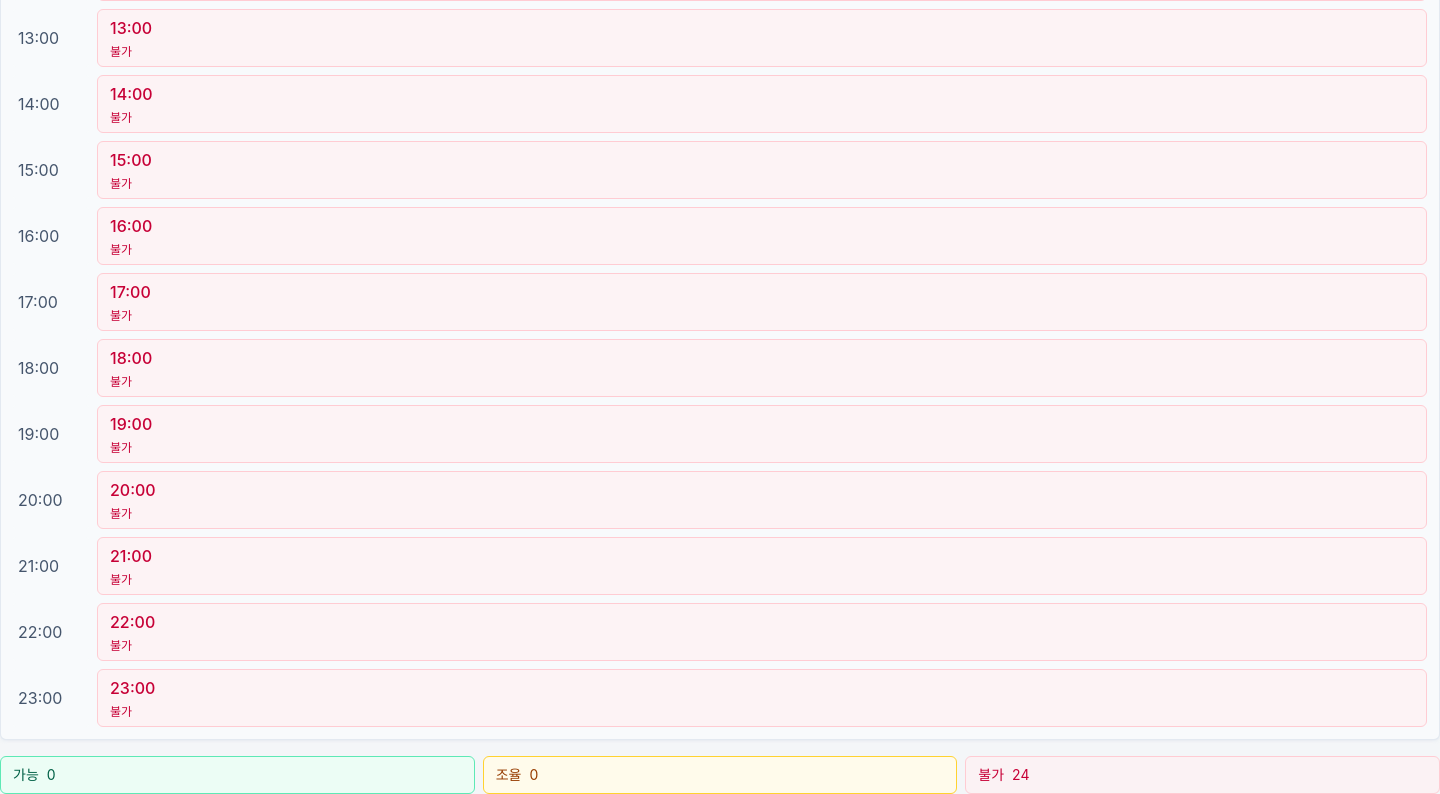
Scenario: AvailabilityGrid › paints multiple cells while dragging across the grid
The width and height of the screenshot is (1440, 794).
(page scrolled)
Press the mouse on the button with aria-label "목 20:00 불가" at x=133, y=490, box [97, 471, 1427, 529]
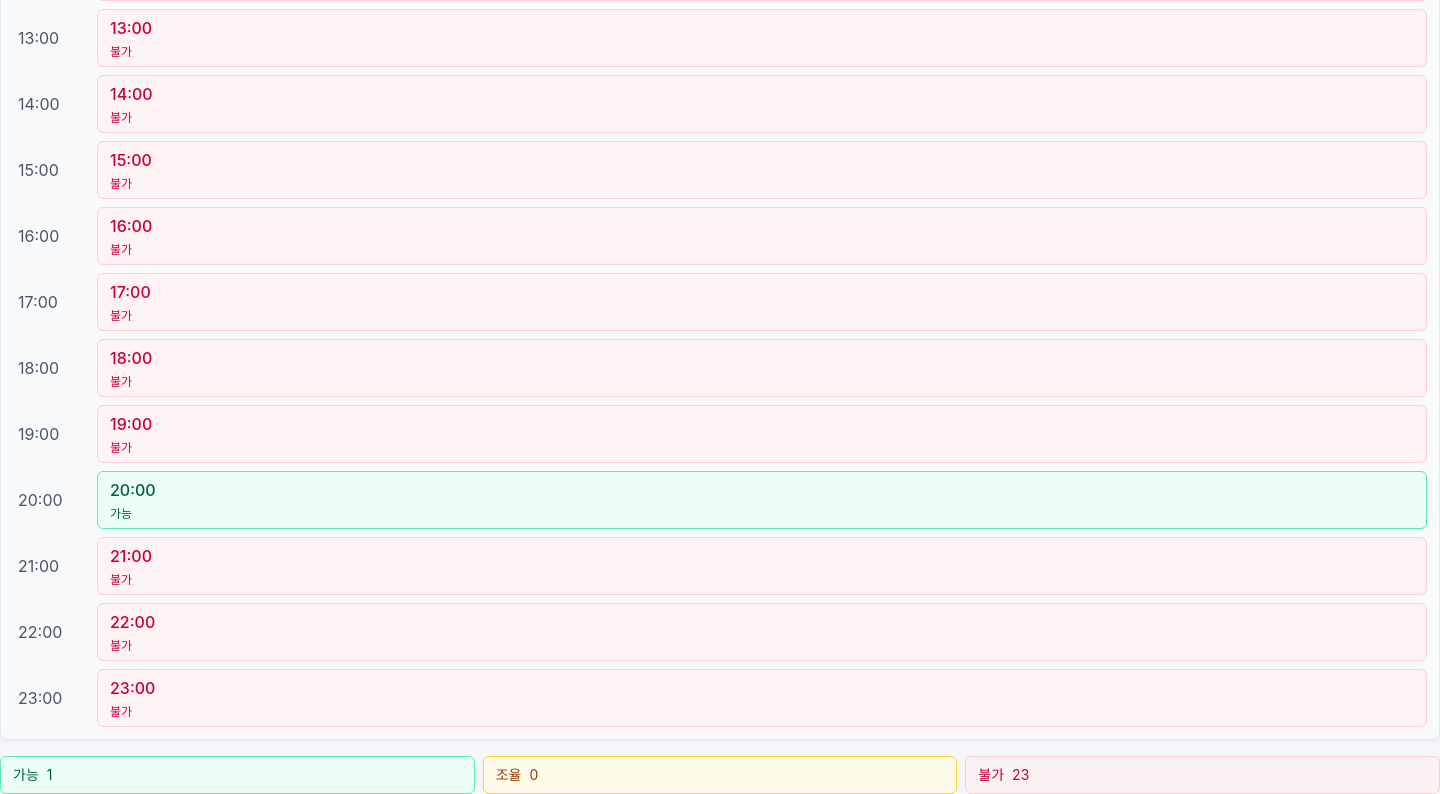
Hover over the button with aria-label "목 21:00 불가" at x=131, y=556, box [97, 537, 1427, 595]
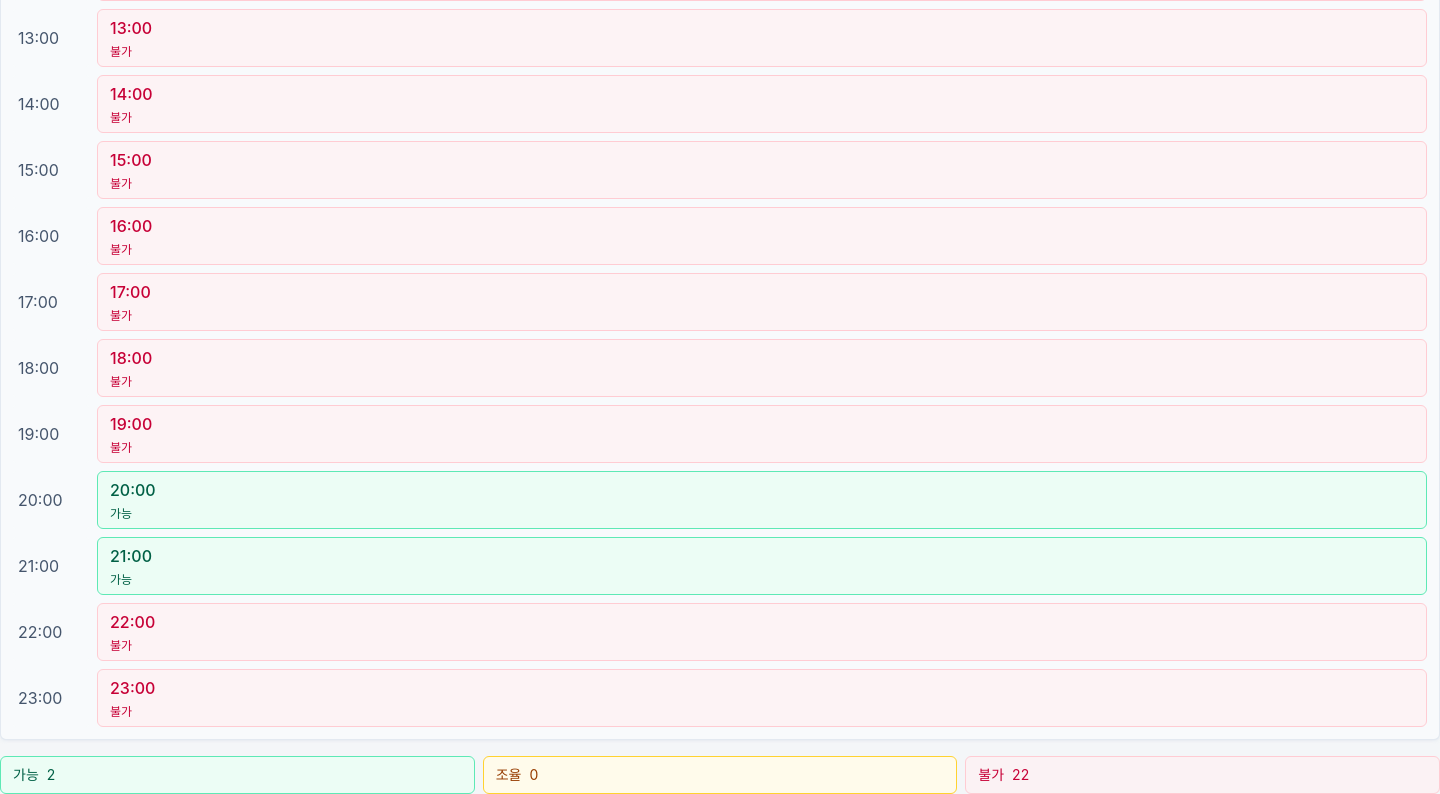
Hover over the button with aria-label "목 22:00 불가" at x=133, y=622, box [97, 603, 1427, 661]
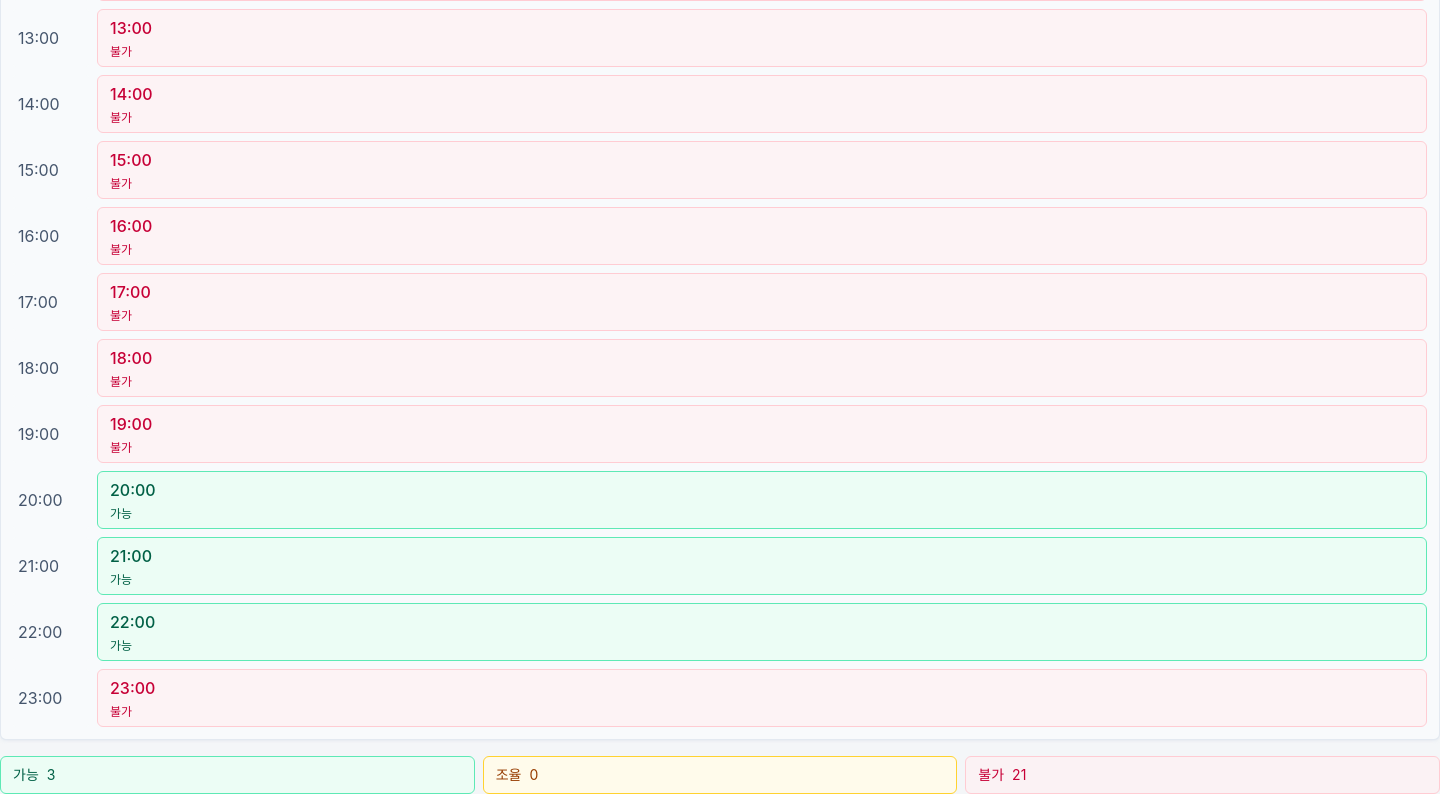
Expected: the button with aria-label "목 22:00 가능" is shown, [97, 603, 1427, 661]
